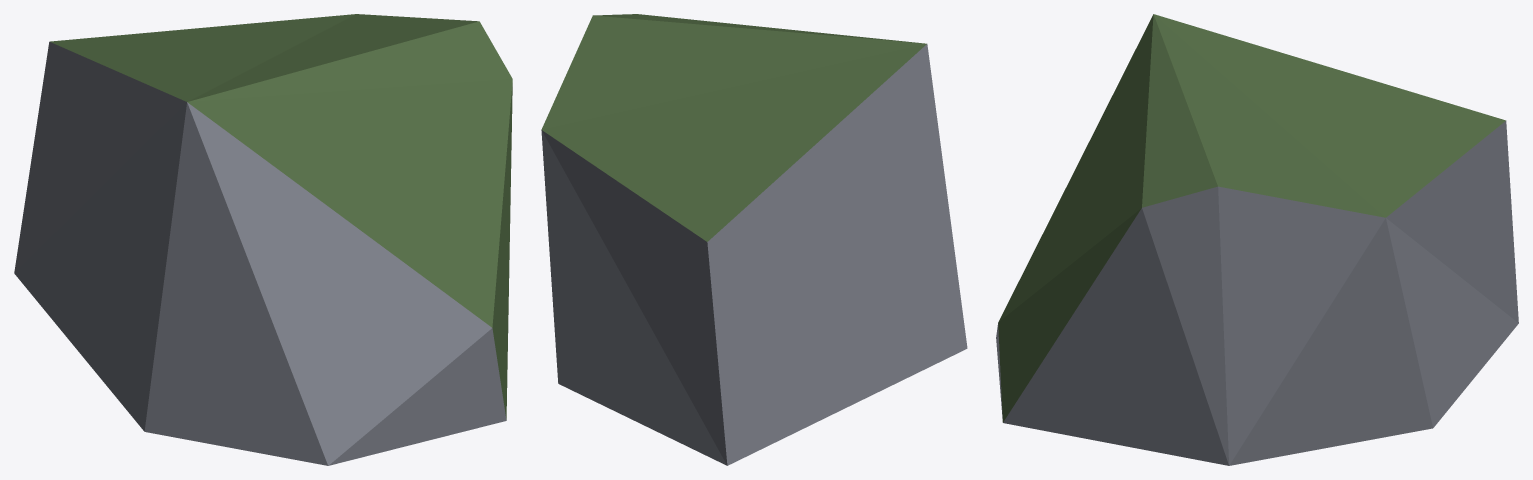
Rendered from Rock_Moss_6.lod4.glb.
3 views of the same model, side by side, from view 1: azimuth 30°, elevation 25°; view 2: azimuth 150°, elevation 25°; view 3: azimuth 270°, elevation 25° (orthographic). The views are drawn at different scales.
Visible parts, largest first — view 1: Rock_Moss_6; view 2: Rock_Moss_6; view 3: Rock_Moss_6.
Part boxes in pixels (left/top/right/bottom): Rock_Moss_6: left=14, top=14, right=512, bottom=465; Rock_Moss_6: left=541, top=14, right=967, bottom=465; Rock_Moss_6: left=996, top=14, right=1518, bottom=465.
Bounding box in the file's own units: 0.8832 × 0.7191 × 1.14.
